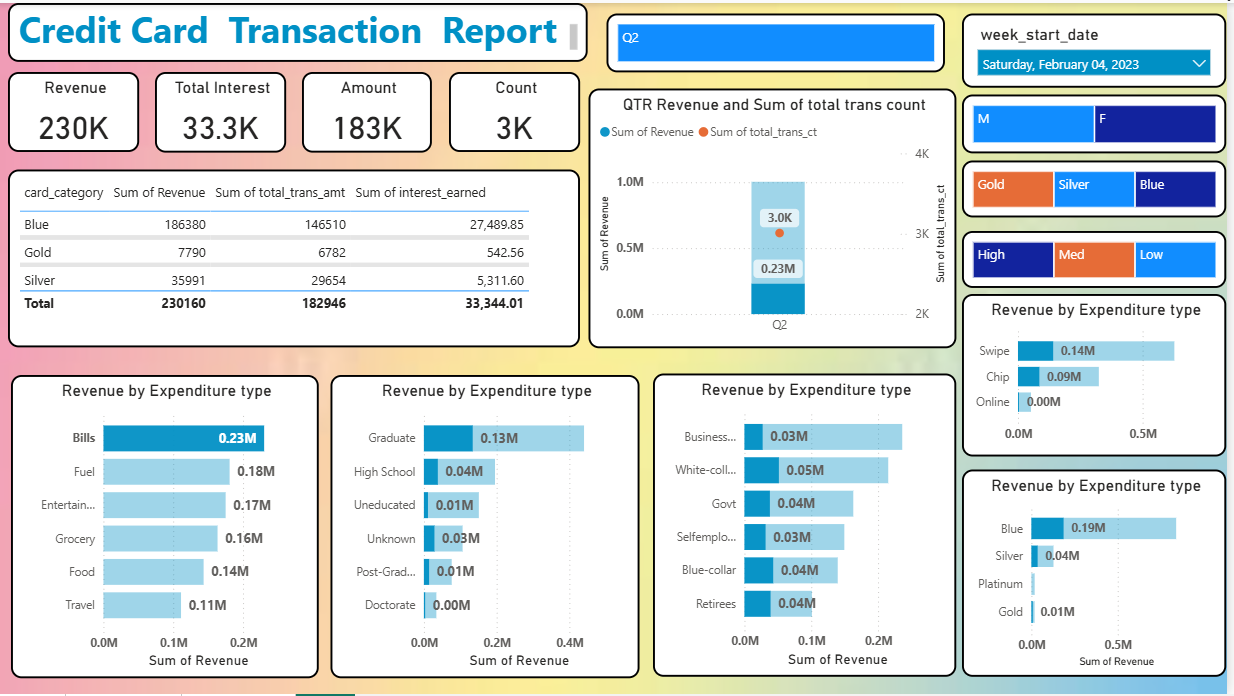

This screenshot's page, from the dashboard's own definition file:
{"tool":"powerbi","page":{"name":"Page 2","canvas":[1280,720],"ordinal":1},"visuals":[{"type":"textbox","box":[9.7,0,604.3,61.2],"z":0},{"type":"lineStackedColumnComboChart","title":"QTR Revenue and Sum of total trans  count","fields":{"Category":["public cc_detail.qtr"],"Y":["Sum(public cc_detail.Revenue)"],"Y2":["Sum(public cc_detail.total_trans_ct)"]},"box":[614,88.6,383.5,270.7],"z":1000},{"type":"barChart","title":"Revenue by Expenditure type","fields":{"Category":["public cc_detail.exp_type"],"Y":["Sum(public cc_detail.Revenue)"]},"box":[12.9,388.4,320.7,315.8],"z":2000},{"type":"barChart","title":"Revenue by Expenditure type","fields":{"Y":["Sum(public cc_detail.Revenue)"],"Category":["public cust_detail.education_level"]},"box":[344.8,388.4,322.3,315.8],"z":3000},{"type":"barChart","title":"Revenue by Expenditure type","fields":{"Y":["Sum(public cc_detail.Revenue)"],"Category":["public cust_detail.customer_job"]},"box":[681.6,386.7,315.8,315.8],"z":4000},{"type":"barChart","title":"Revenue by Expenditure type","fields":{"Y":["Sum(public cc_detail.Revenue)"],"Category":["public cc_detail.card_category"]},"box":[1003.9,486.7,275.6,215.9],"z":5000},{"type":"barChart","title":"Revenue by Expenditure type","fields":{"Y":["Sum(public cc_detail.Revenue)"],"Category":["public cc_detail.use_chip"]},"box":[1003.9,302.9,275.6,169.2],"z":6000},{"type":"tableEx","fields":{"Values":["public cc_detail.card_category","Sum(public cc_detail.Revenue)","Sum(public cc_detail.total_trans_amt)","Sum(public cc_detail.interest_earned)"]},"box":[9.7,174,596.2,185.3],"z":7000},{"type":"cardVisual","title":"Revenue","fields":{"Data":["Sum(public cc_detail.Revenue)"]},"box":[9.6,72.3,136.6,83.6],"z":8000},{"type":"cardVisual","title":"Count","fields":{"Data":["Sum(public cc_detail.total_trans_ct)"]},"box":[469.4,72.3,136.6,83.6],"z":9000},{"type":"cardVisual","title":"Amount","fields":{"Data":["Sum(public cc_detail.total_trans_amt)"]},"box":[315.8,72.5,135.4,83.8],"z":10000},{"type":"cardVisual","title":"Total Interest","fields":{"Data":["Sum(public cc_detail.interest_earned)"]},"box":[162.8,72.5,137,83.8],"z":11000},{"type":"slicer","fields":{"Values":["public cc_detail.week_start_date"]},"box":[1003.9,11.3,275.6,77.3],"z":12000},{"type":"treemap","fields":{"Group":["public cc_detail.qtr"],"Values":["Avg(public cc_detail.client_num)"]},"box":[633.3,11.3,352.9,61.2],"z":13000},{"type":"treemap","fields":{"Values":["Avg(public cc_detail.client_num)"],"Group":["public cust_detail.gender"]},"box":[1003.9,95.1,275.6,61.2],"z":14000},{"type":"treemap","fields":{"Values":["Avg(public cc_detail.client_num)"],"Group":["public cc_detail.card_category"]},"box":[1003.9,164.4,275.6,59.6],"z":15000},{"type":"treemap","fields":{"Values":["Avg(public cc_detail.client_num)"],"Group":["public cust_detail.IncomeGroup"]},"box":[1003.9,236.9,275.6,59.6],"z":16000}]}

Visuals, with their boxes in screenshot pixels (x1, y1, x2, y2), scaled from the page's 1280x720 canvas onto the 1234x696 screenshot:
textbox: x1=9, y1=0, x2=592, y2=59
"QTR Revenue and Sum of total trans  count" lineStackedColumnComboChart: x1=592, y1=86, x2=962, y2=347
"Revenue by Expenditure type" barChart: x1=12, y1=375, x2=322, y2=681
"Revenue by Expenditure type" barChart: x1=332, y1=375, x2=643, y2=681
"Revenue by Expenditure type" barChart: x1=657, y1=374, x2=962, y2=679
"Revenue by Expenditure type" barChart: x1=968, y1=470, x2=1233, y2=679
"Revenue by Expenditure type" barChart: x1=968, y1=293, x2=1233, y2=456
tableEx - public cc_detail.card_category x Sum(public cc_detail.Revenue): x1=9, y1=168, x2=584, y2=347
"Revenue" cardVisual: x1=9, y1=70, x2=141, y2=151
"Count" cardVisual: x1=453, y1=70, x2=584, y2=151
"Amount" cardVisual: x1=304, y1=70, x2=435, y2=151
"Total Interest" cardVisual: x1=157, y1=70, x2=289, y2=151
slicer - public cc_detail.week_start_date: x1=968, y1=11, x2=1233, y2=86
treemap - public cc_detail.qtr x Avg(public cc_detail.client_num): x1=611, y1=11, x2=951, y2=70
treemap - Avg(public cc_detail.client_num) x public cust_detail.gender: x1=968, y1=92, x2=1233, y2=151
treemap - Avg(public cc_detail.client_num) x public cc_detail.card_category: x1=968, y1=159, x2=1233, y2=217
treemap - Avg(public cc_detail.client_num) x public cust_detail.IncomeGroup: x1=968, y1=229, x2=1233, y2=287
